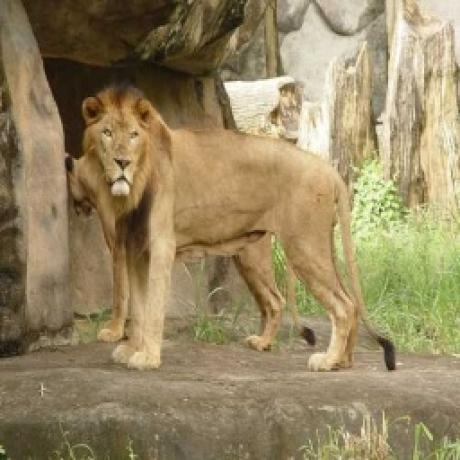Lion: (84, 86, 398, 374), (63, 153, 318, 349)
